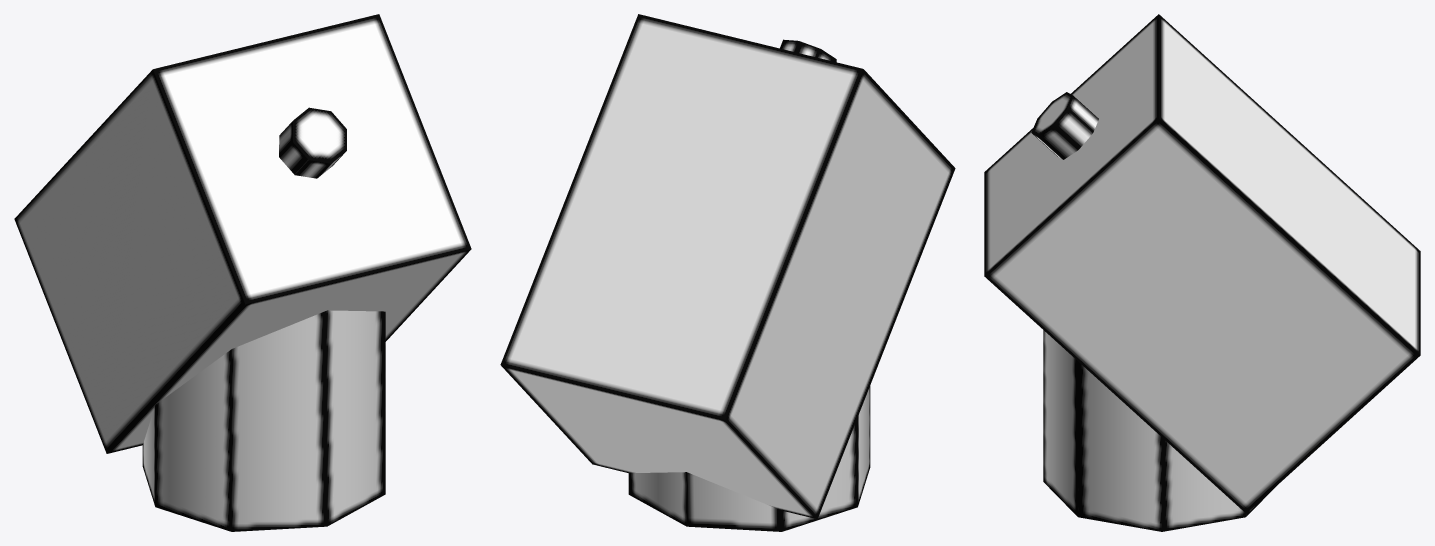
The model's file is AntiAirTurret1.obj.
The picture shows the model from 3 angles, left to right: view 1: azimuth 30°, elevation 25°; view 2: azimuth 150°, elevation 25°; view 3: azimuth 270°, elevation 25°; orthographic projection. The views are drawn at different scales.
Visible parts, largest first — view 1: Box10; view 2: Box10; view 3: Box10.
Part boxes in pixels (x1=…): Box10: x1=14, y1=14, x2=471, y2=531; Box10: x1=500, y1=14, x2=955, y2=531; Box10: x1=984, y1=14, x2=1420, y2=531.
Size of the model in its own units: 1.04 by 1.93 by 1.84.
1 material, 1 textured.
